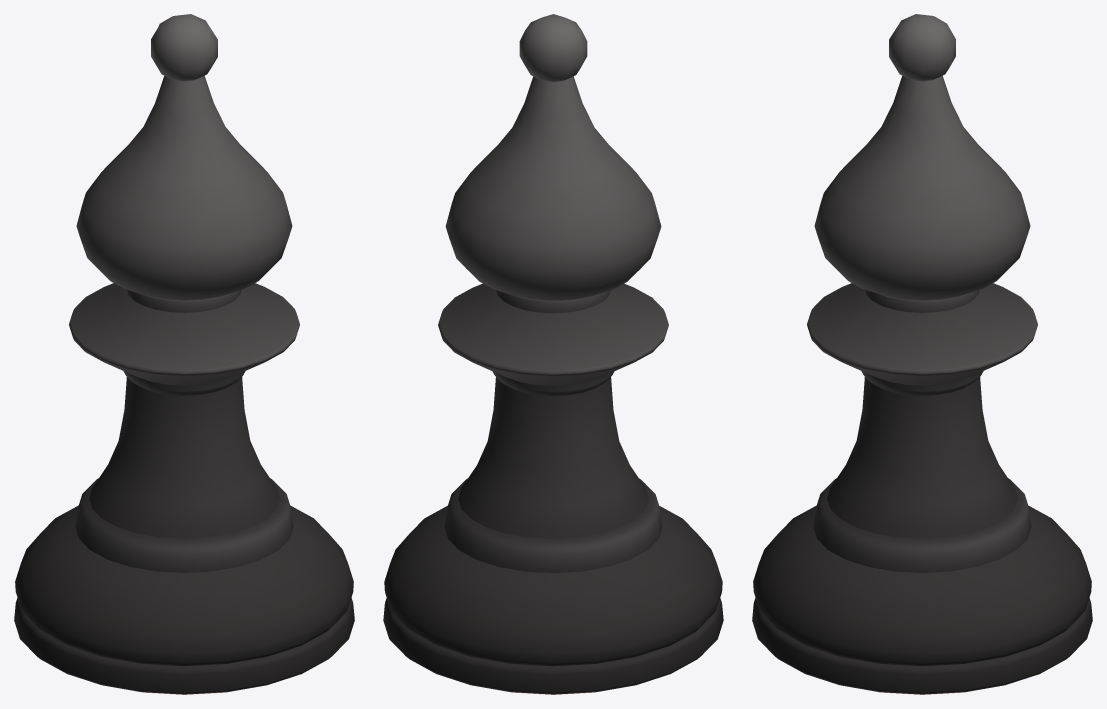
Rendered from Chess_Black_Bishop_01.fbx.
The picture shows the model from 3 angles, left to right: view 1: azimuth 30°, elevation 25°; view 2: azimuth 150°, elevation 25°; view 3: azimuth 270°, elevation 25°; orthographic projection.
Visible parts, largest first — view 1: Chess_Black_Bishop_01; view 2: Chess_Black_Bishop_01; view 3: Chess_Black_Bishop_01.
Boxes of the visible parts, x1,y1,x2,y2 form: Chess_Black_Bishop_01: [14, 14, 354, 694]; Chess_Black_Bishop_01: [383, 14, 723, 694]; Chess_Black_Bishop_01: [752, 14, 1092, 694].
Size of the model in its own units: 3.64 by 7.21 by 3.64.
